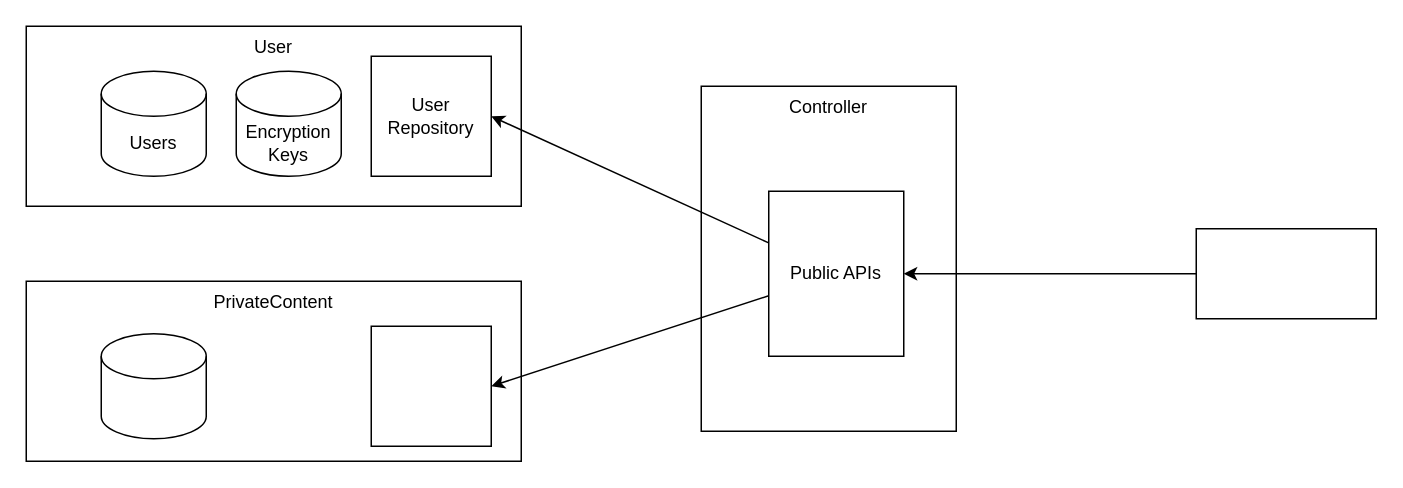
This 1403x488 diagram has some shape labels left out. The box of each missing label's shape, as (x1, y1, x2, y2) in pixels:
Client Web Mobile Apps: (1195, 227, 1376, 319)
Private Contents: (100, 332, 206, 439)
PrivateContent Repository: (370, 325, 491, 446)
